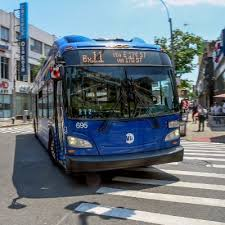bus: (31, 35, 183, 178)
